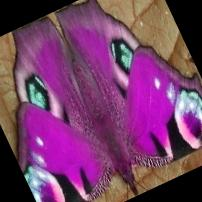butterfly: (13, 0, 202, 202)
